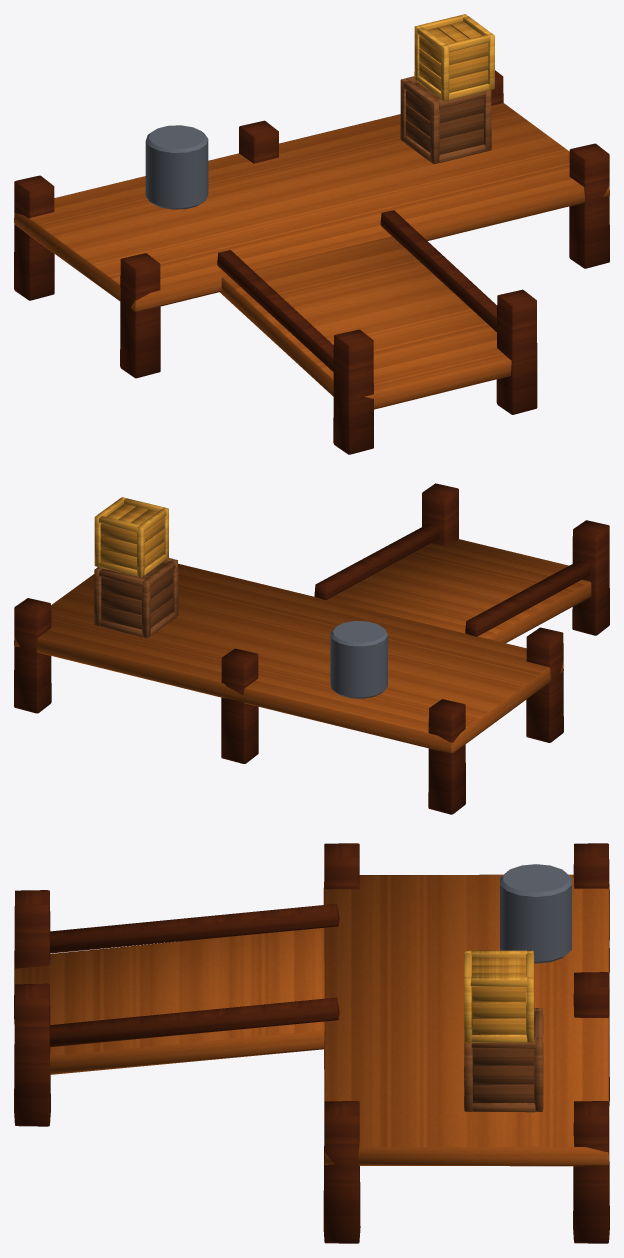
Rendered from OBJ26_main_wooden_pier.glb.
3 renders of one model, top to bottom at view 1: azimuth 30°, elevation 25°; view 2: azimuth 150°, elevation 25°; view 3: azimuth 270°, elevation 25°, orthographic. The views are drawn at different scales.
Visible parts, largest first — view 1: MainDeck, FrontJetty, Barrel, Piling_5, Piling_6, Piling_4, Piling_3, Piling_0, JettyRail_-8, JettyRail_1, Piling_1, SideSlatZ_1_1 (+3 smaller); view 2: MainDeck, FrontJetty, Barrel, Piling_2, Piling_0, Piling_1, Piling_3, Piling_5, JettyRail_1, JettyRail_-8, Piling_6, SideSlatZ_1_-1 (+6 smaller); view 3: MainDeck, FrontJetty, JettyRail_1, JettyRail_-8, Barrel, Piling_6, Piling_4, Piling_2, Piling_5, Piling_1, Piling_3, Piling_0 (+10 smaller).
Boxes of the visible parts, left/top/right/bottom form: MainDeck: left=14, top=103, right=609, bottom=311; FrontJetty: left=219, top=236, right=511, bottom=409; Barrel: left=145, top=125, right=208, bottom=209; Piling_5: left=333, top=329, right=373, bottom=454; Piling_6: left=496, top=289, right=537, bottom=414; Piling_4: left=569, top=143, right=609, bottom=268; Piling_3: left=120, top=253, right=160, bottom=378; Piling_0: left=14, top=175, right=54, bottom=300; JettyRail_-8: left=217, top=250, right=333, bottom=371; JettyRail_1: left=380, top=210, right=496, bottom=331; Piling_1: left=239, top=120, right=278, bottom=163; SideSlatZ_1_1: left=439, top=113, right=483, bottom=138; MainDeck: left=14, top=563, right=563, bottom=753; FrontJetty: left=327, top=539, right=591, bottom=643; Barrel: left=330, top=621, right=387, bottom=698; Piling_2: left=14, top=598, right=51, bottom=713; Piling_0: left=428, top=699, right=465, bottom=814; Piling_1: left=221, top=648, right=258, bottom=763; Piling_3: left=526, top=627, right=563, bottom=742; Piling_5: left=572, top=520, right=609, bottom=635; JettyRail_1: left=314, top=524, right=439, bottom=599; JettyRail_-8: left=465, top=560, right=589, bottom=636; Piling_6: left=422, top=483, right=458, bottom=546; SideSlatZ_1_-1: left=101, top=591, right=141, bottom=614; MainDeck: left=323, top=874, right=609, bottom=1166; FrontJetty: left=14, top=928, right=324, bottom=1074; JettyRail_1: left=50, top=997, right=339, bottom=1047; JettyRail_-8: left=50, top=904, right=339, bottom=953; Barrel: left=500, top=864, right=571, bottom=963; Piling_6: left=14, top=983, right=50, bottom=1126; Piling_4: left=323, top=1101, right=360, bottom=1243; Piling_2: left=573, top=1101, right=609, bottom=1243; Piling_5: left=14, top=890, right=50, bottom=1023; Piling_1: left=573, top=972, right=609, bottom=1105; Piling_3: left=324, top=843, right=359, bottom=889; Piling_0: left=573, top=843, right=609, bottom=972.
Bounding box in the file's own units: 2.8 × 1.11 × 2.58.
Materials: 7 (6 with a texture image).
